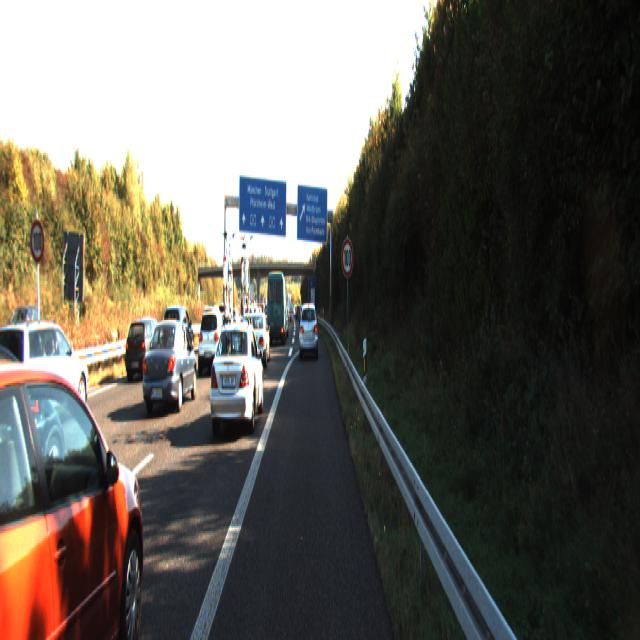Car: (0, 341, 154, 638), (0, 330, 69, 560), (0, 316, 93, 442), (207, 321, 264, 442), (139, 317, 198, 418), (124, 315, 168, 379), (194, 312, 229, 380), (161, 302, 195, 364), (243, 315, 271, 373), (266, 269, 286, 344), (299, 301, 318, 358)
